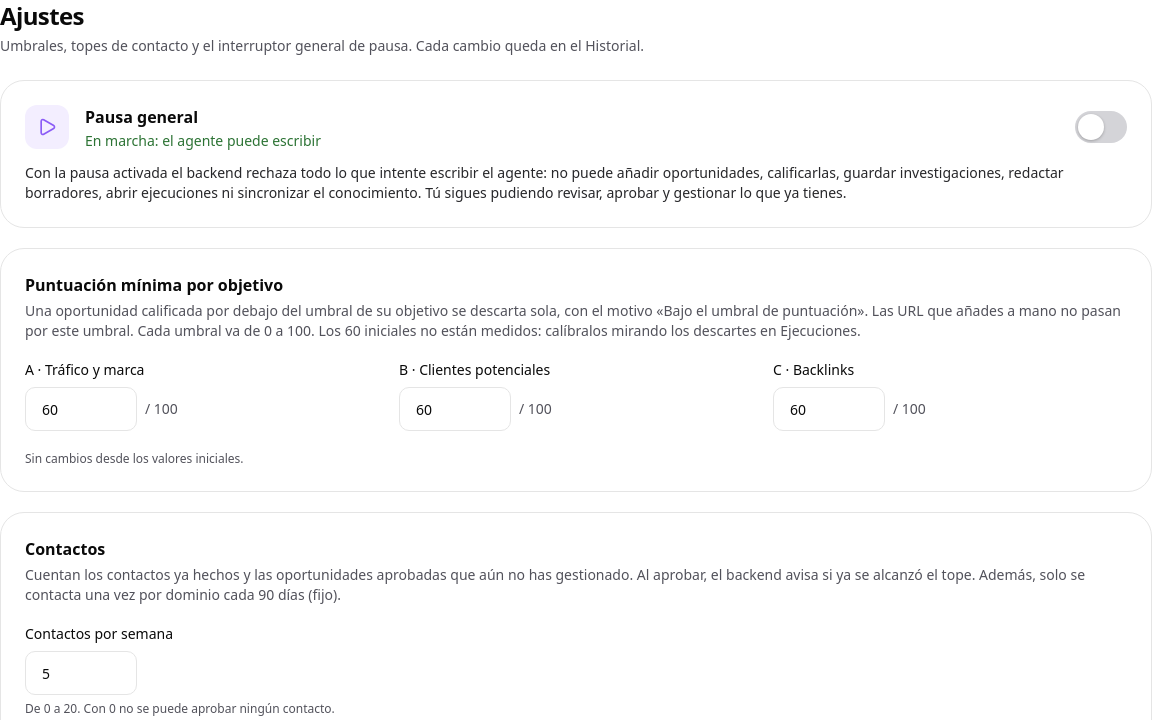
Scenario: Ajustes · pausa › pausar pide confirmación y avisa de lo que hace; no guarda hasta confirmar
Click the switch named "Pausar el agente" at (1101, 127), box [1075,105,1127,149]
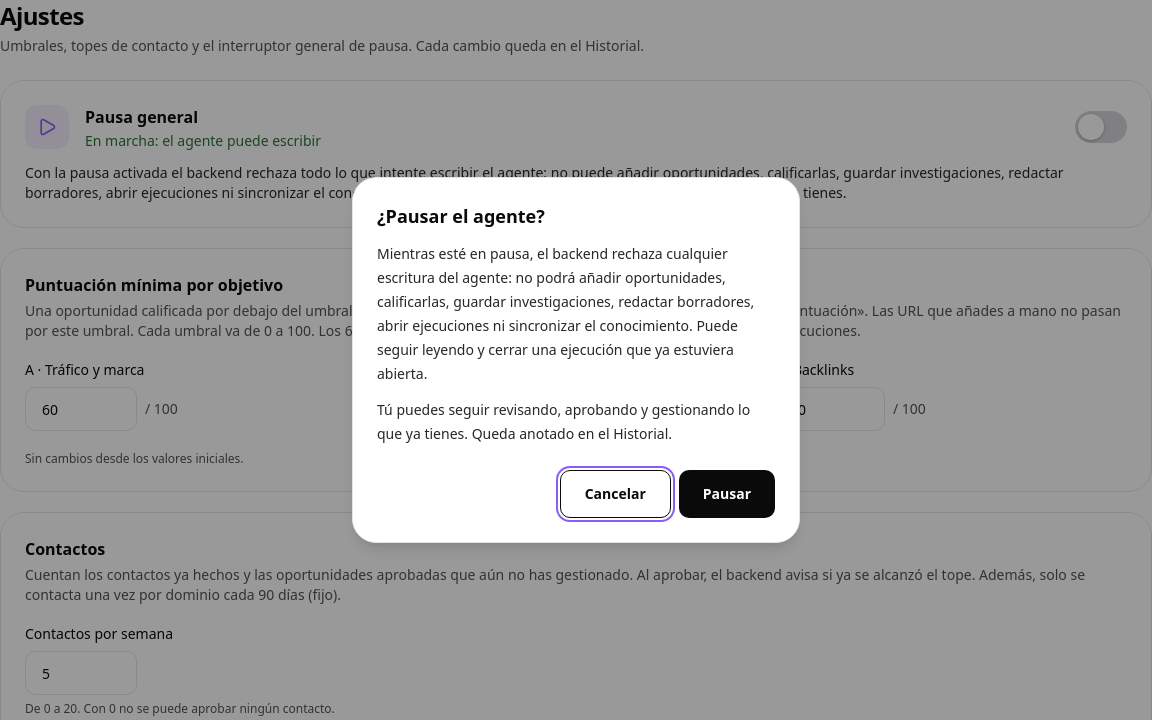
Result: the dialog "¿Pausar el agente?" shows "el backend rechaza cualquier escritura del agente" at [377,244,754,383]
Result: the dialog "¿Pausar el agente?" shows "añadir oportunidades" at [377,244,754,383]
Result: the dialog "¿Pausar el agente?" shows "redactar borradores" at [377,244,754,383]
